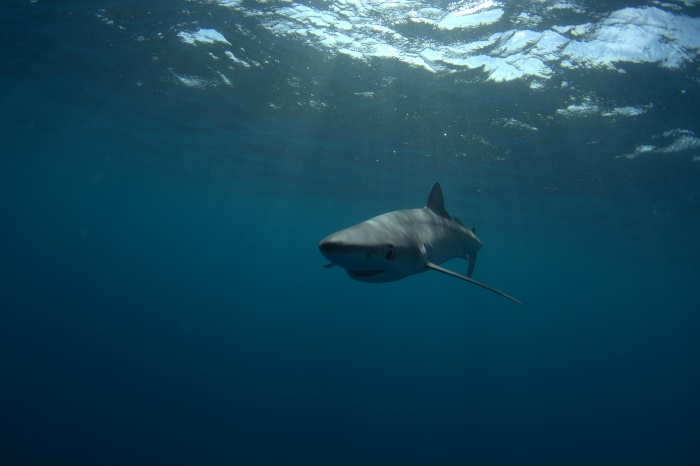Azul: (287, 178, 535, 317)
